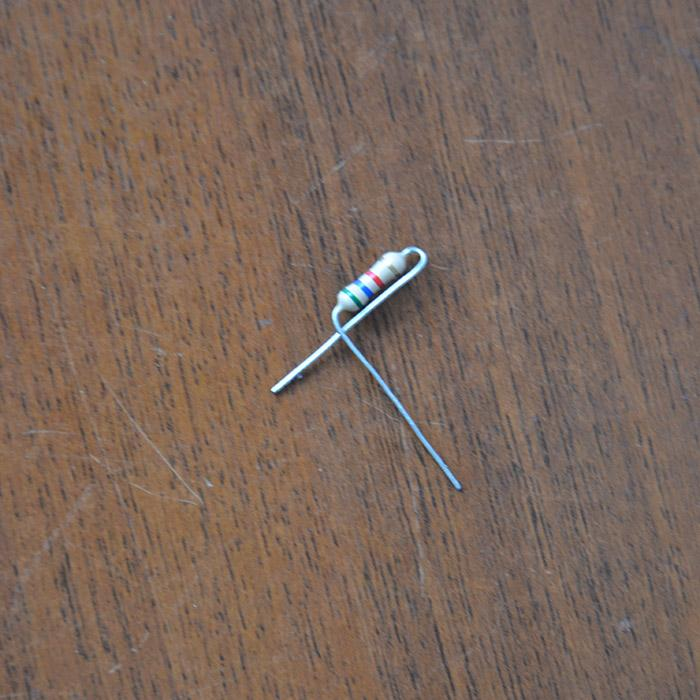resistor: (336, 250, 413, 317)
